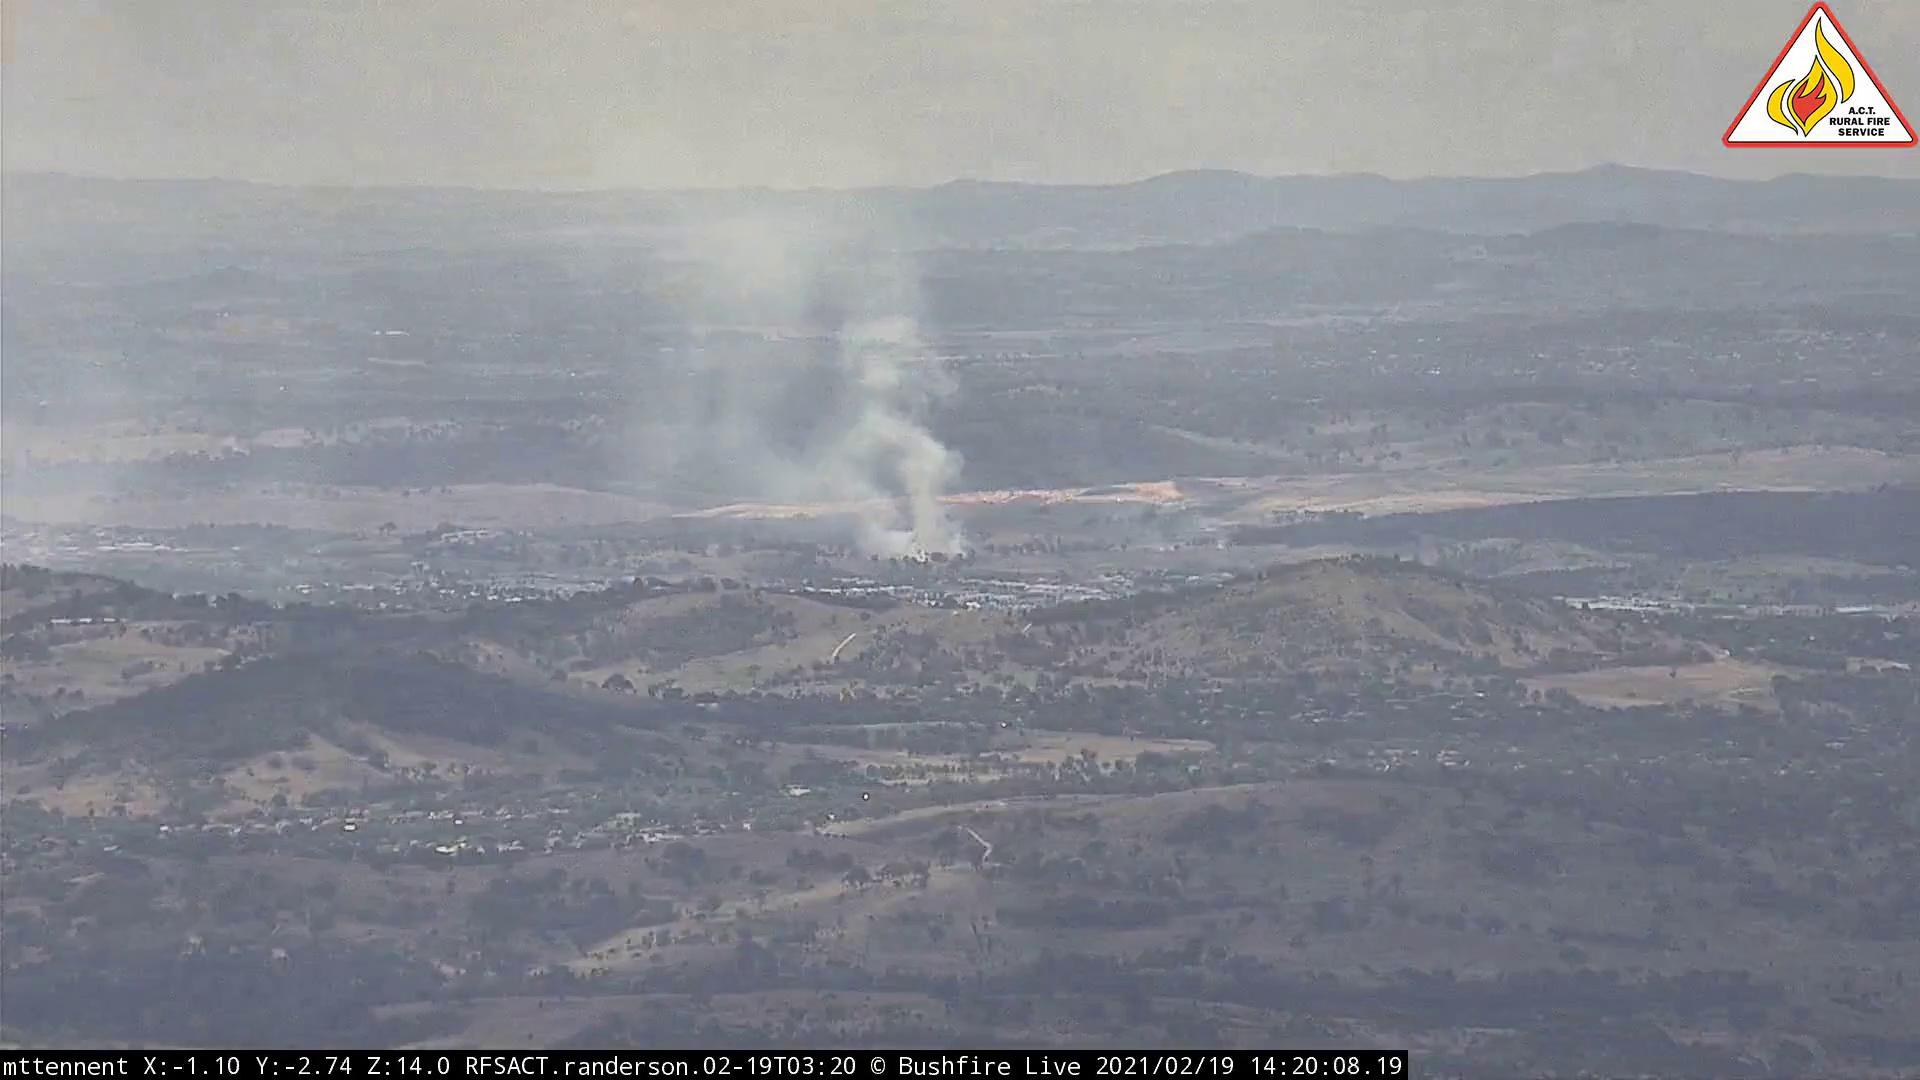Smoke: (505, 193, 989, 582)
